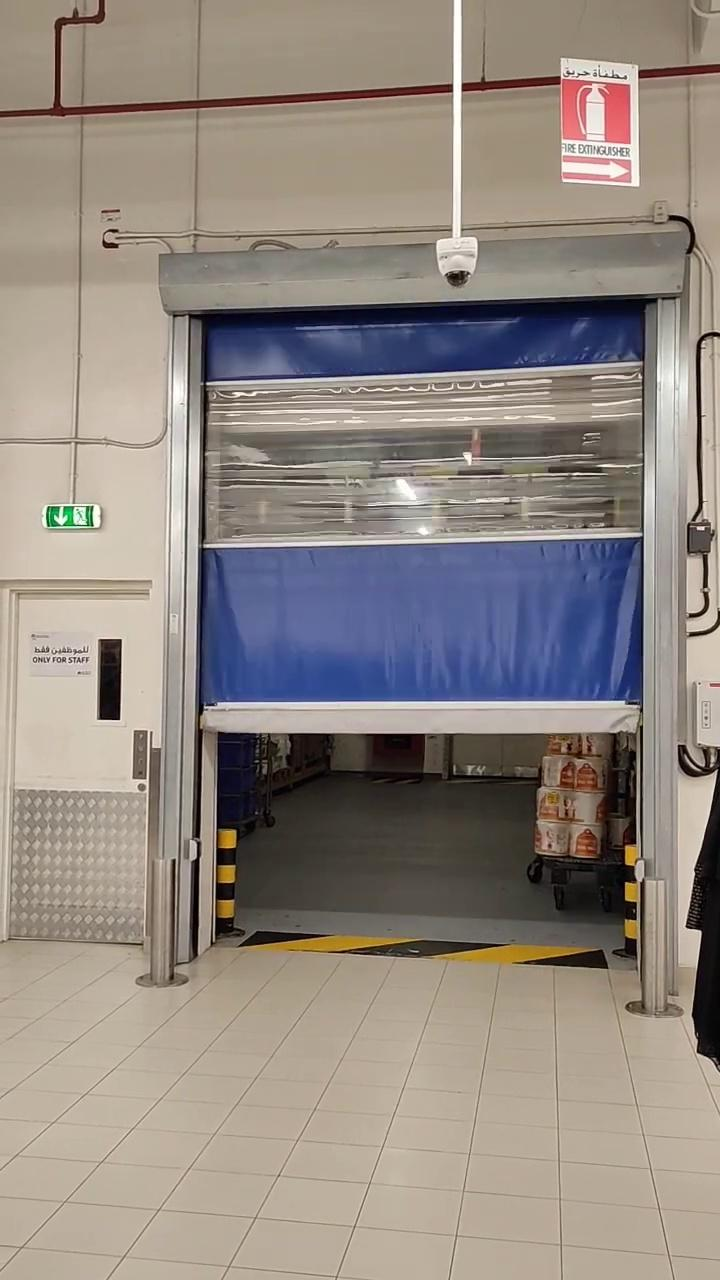Strip: (246, 916, 609, 981)
